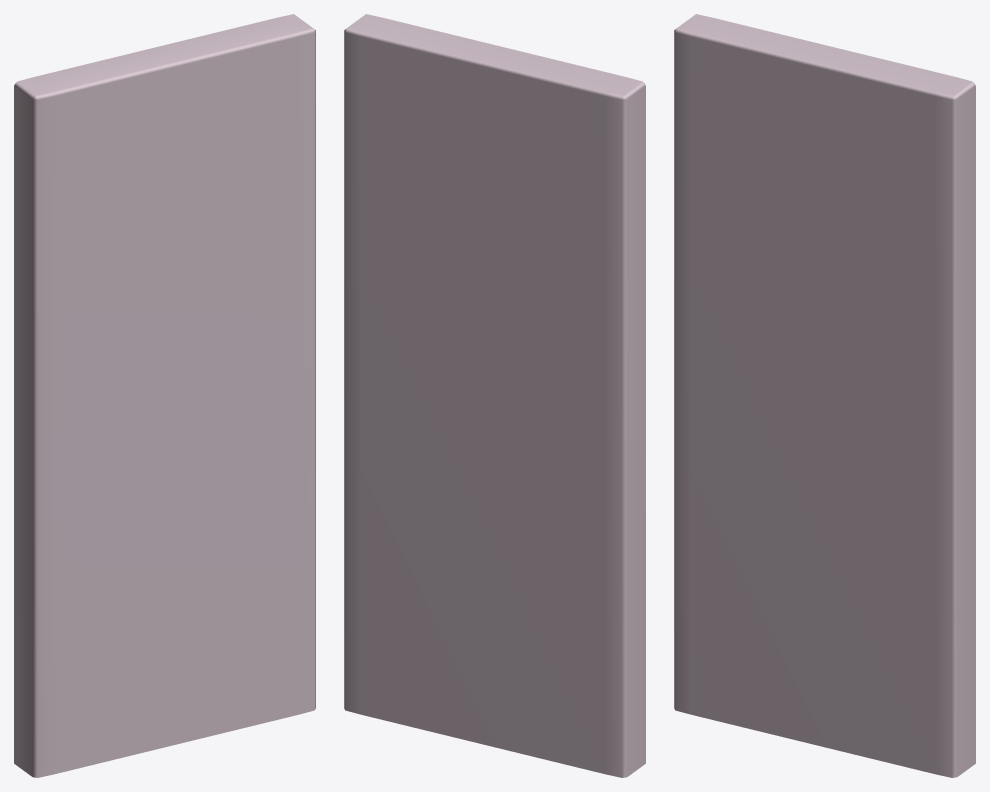
File: mod_sc_roma_001_ar09_wall_008.FBX
The picture shows the model from 3 angles, left to right: view 1: azimuth 30°, elevation 25°; view 2: azimuth 150°, elevation 25°; view 3: azimuth 330°, elevation 25°; orthographic projection.
Visible parts, largest first — view 1: mod_sc_roma_001_ar09_wall_008; view 2: mod_sc_roma_001_ar09_wall_008; view 3: mod_sc_roma_001_ar09_wall_008.
Boxes of the visible parts, x1,y1,x2,y2 form: mod_sc_roma_001_ar09_wall_008: (14,14,315,777); mod_sc_roma_001_ar09_wall_008: (344,14,645,777); mod_sc_roma_001_ar09_wall_008: (674,14,975,777).
Size of what is drawn, in the model's own units: 348 by 800 by 50.
